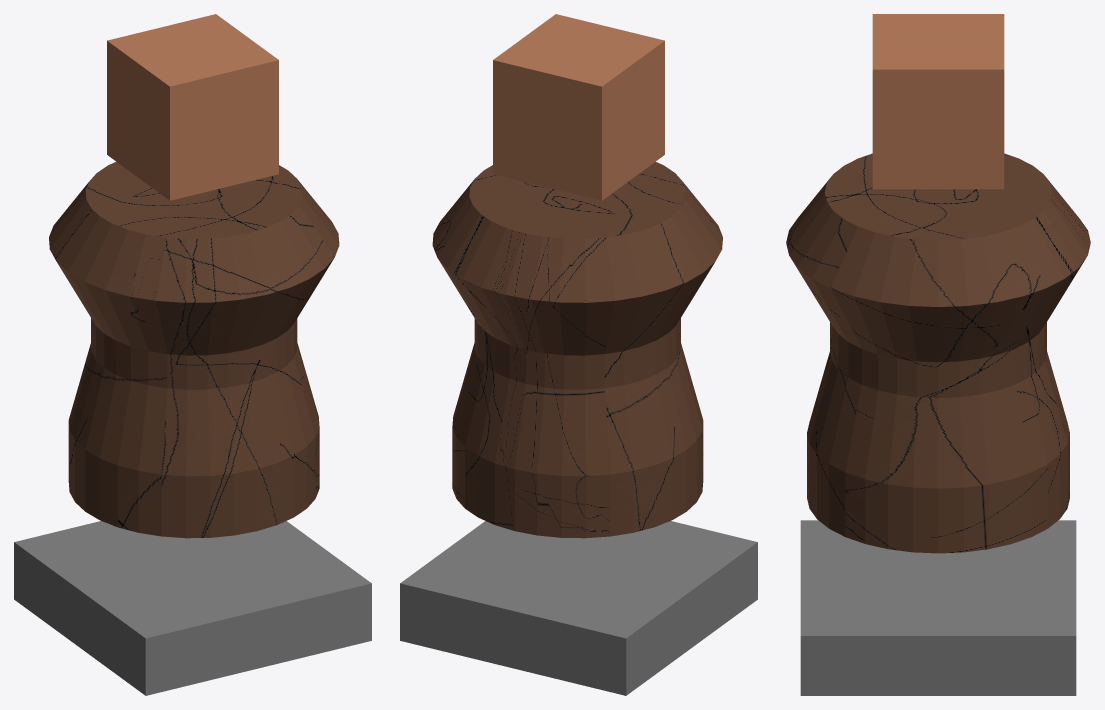
File: Fighting Dummy.fbx
3 views of the same model, side by side, from view 1: azimuth 30°, elevation 25°; view 2: azimuth 150°, elevation 25°; view 3: azimuth 270°, elevation 25° (orthographic). The views are drawn at different scales.
Parts seen in each view (by area): view 1: Bust.001, Base.001, Head.001; view 2: Bust.001, Base.001, Head.001; view 3: Bust.001, Base.001, Head.001.
Boxes of the visible parts, <box> form: Bust.001: <box>49,161,339,538</box>; Base.001: <box>14,521,371,695</box>; Head.001: <box>107,14,278,200</box>; Bust.001: <box>432,161,722,538</box>; Base.001: <box>400,521,757,695</box>; Head.001: <box>493,14,664,200</box>; Bust.001: <box>786,153,1090,553</box>; Base.001: <box>800,520,1076,695</box>; Head.001: <box>872,14,1004,189</box>.
Size of the model in its own units: 172 by 372 by 172.
